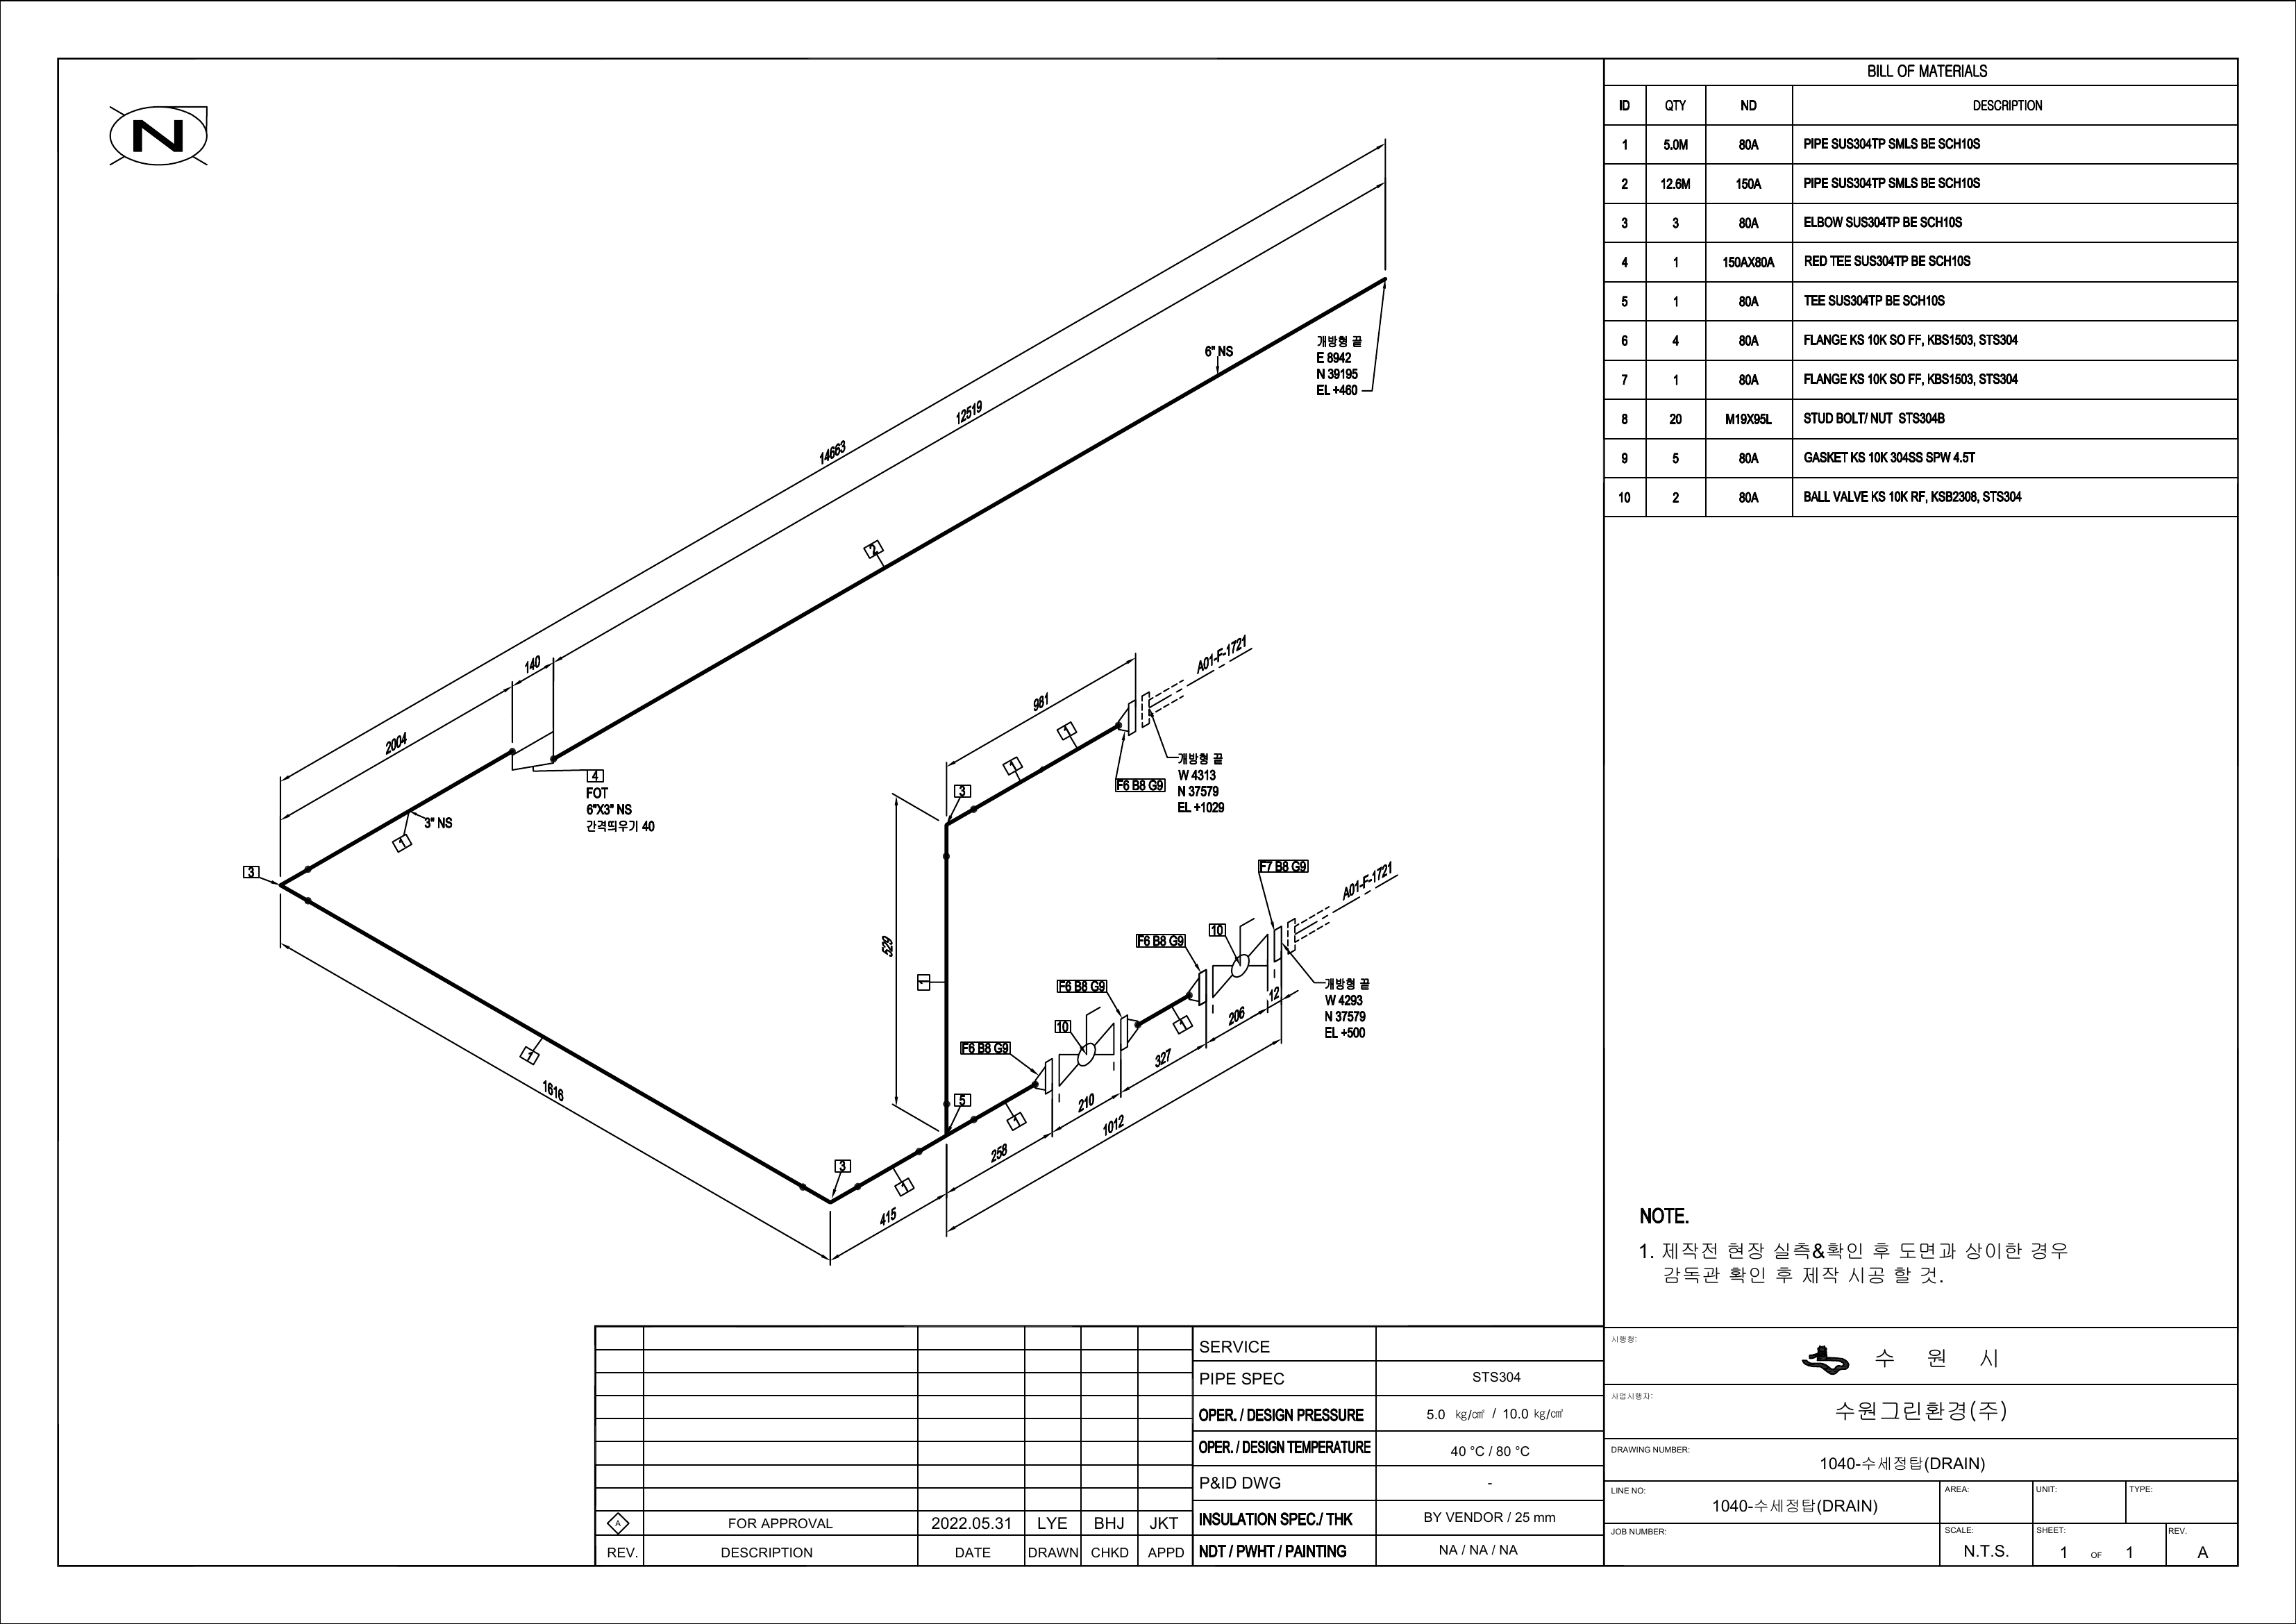table: (1599, 49, 2243, 526)
